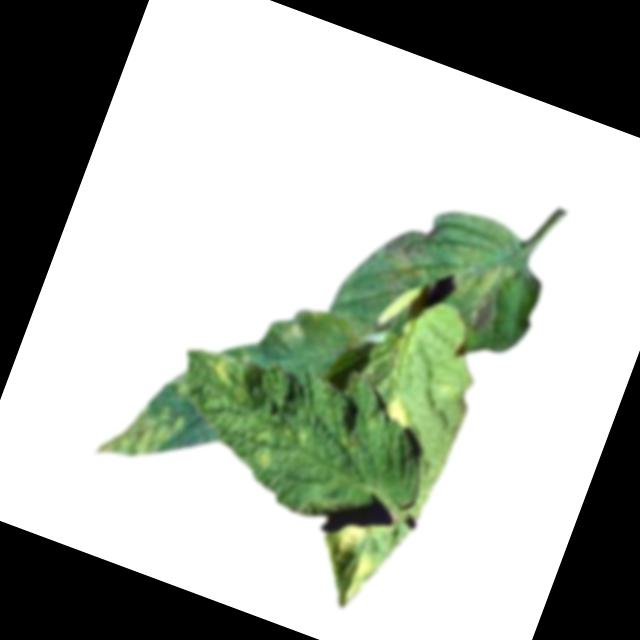Leaf_Mold: (89, 388, 186, 482), (440, 249, 518, 342), (341, 548, 381, 608), (380, 390, 419, 431), (202, 352, 241, 390), (332, 514, 367, 554), (243, 440, 278, 472)
